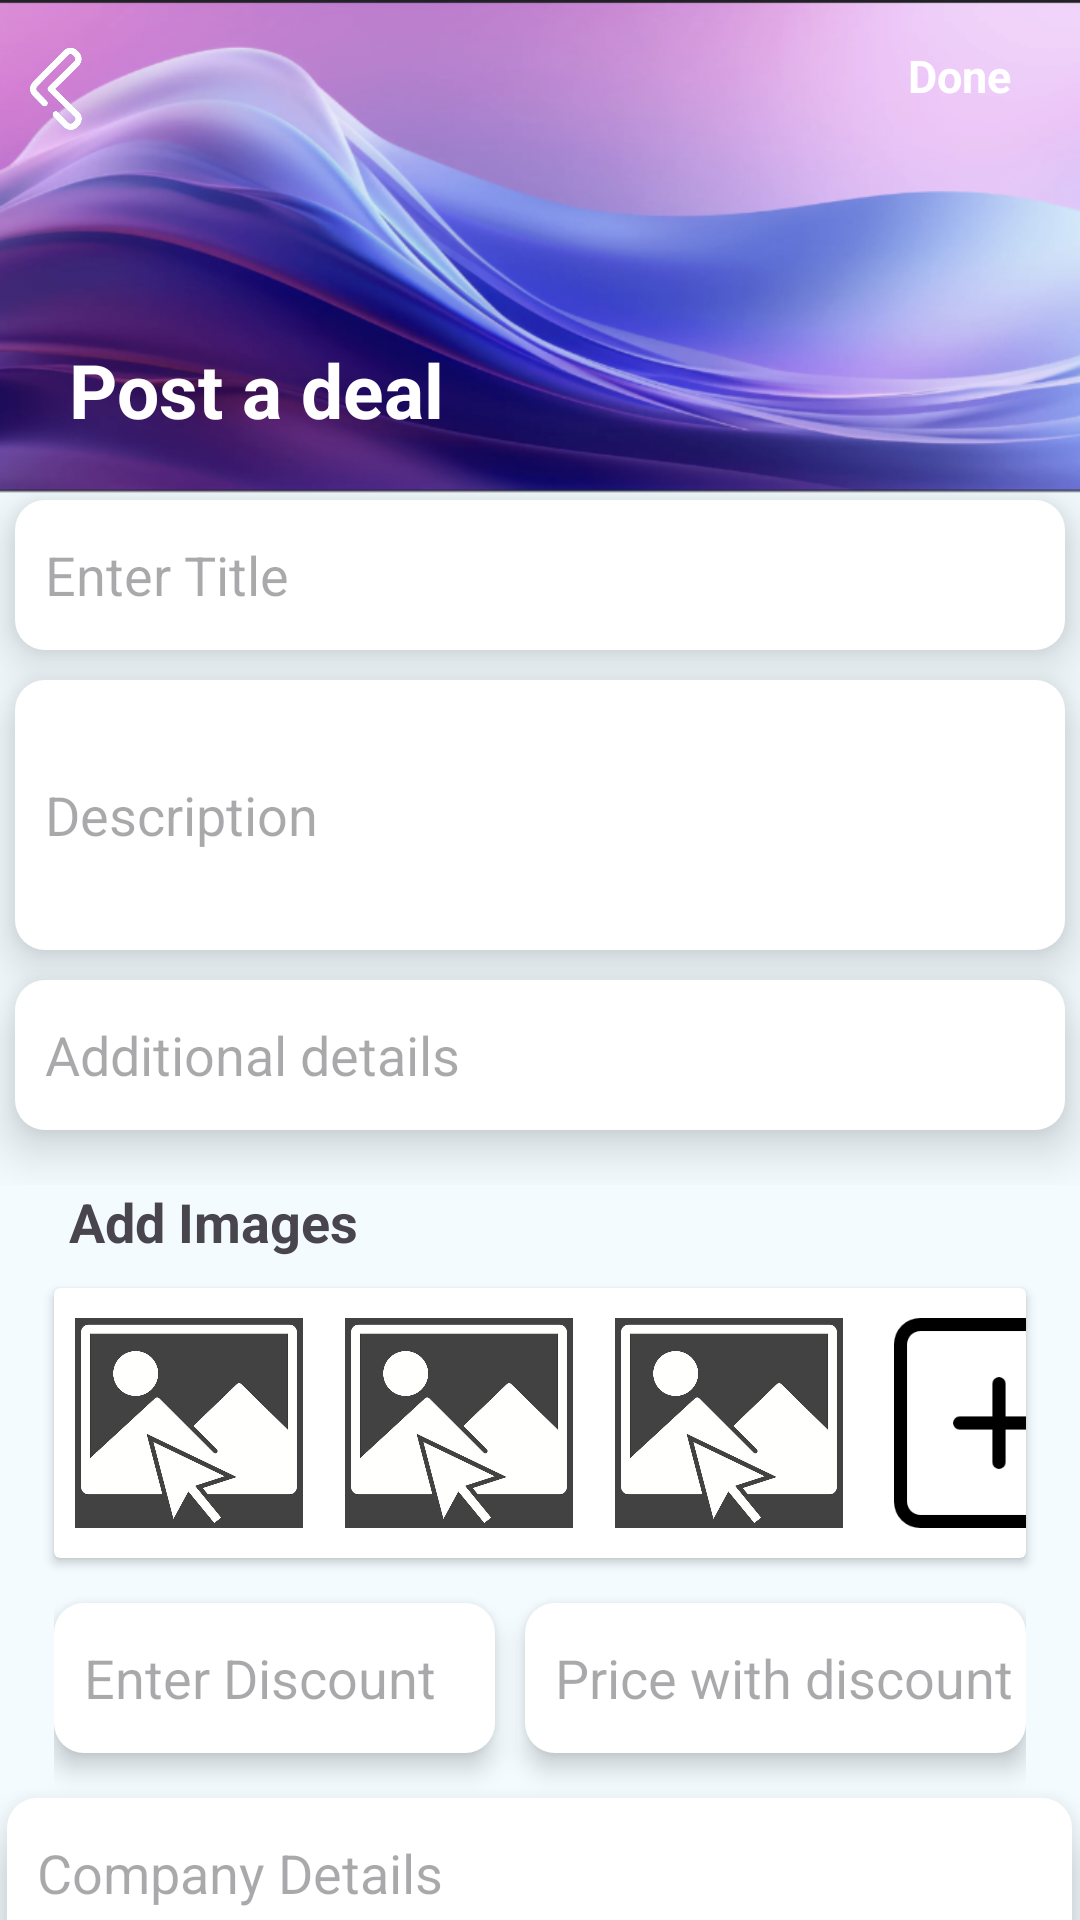

Screen size 1080 x 1920. Icon name, then its box in pixels as (x1,y1,x2,y2):
back: (30,48,102,135)
